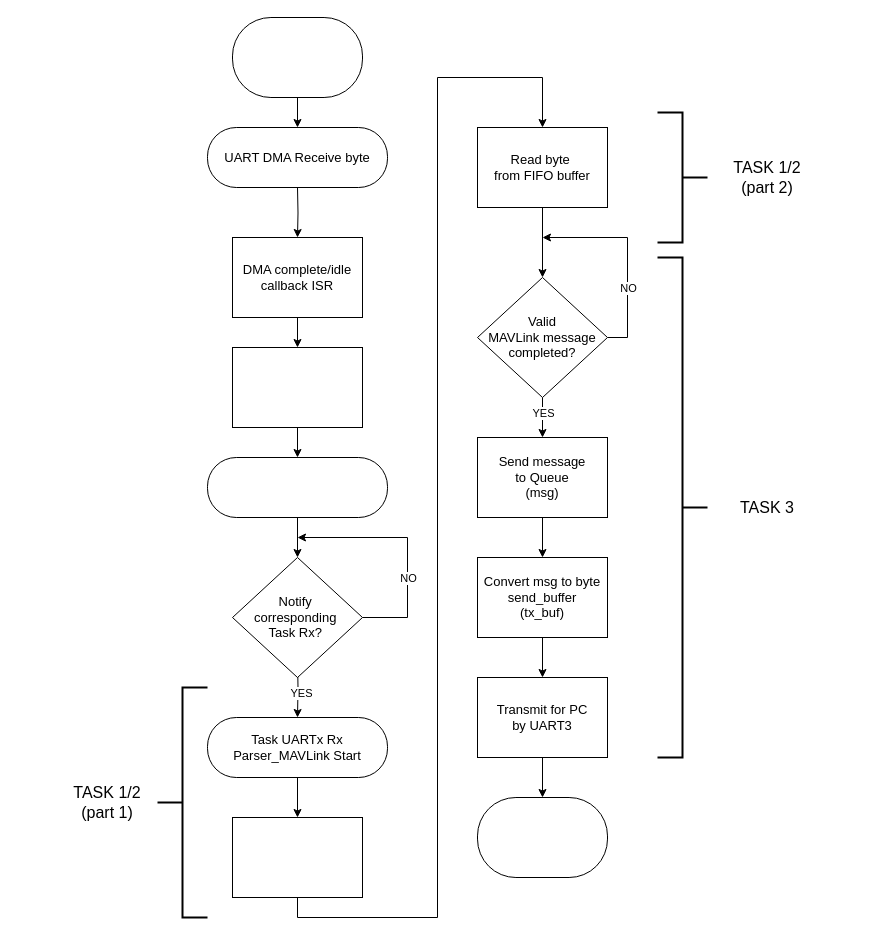
The diagram is 874 pixels wide and 943 high, and some of its shapes have lost their labels. The centre of each missing label's shape, as x and y in pixels:
"END" belongs at (x=542, y=837).
"Notify corresponding Task Rx with xSemaphoreGiveFromISR" belongs at (x=297, y=487).
"START" belongs at (x=297, y=57).
"Wait for xSemaphoreTake" belongs at (x=297, y=857).
"Write data from DMA to FIFO_uartx buffer" belongs at (x=297, y=387).
